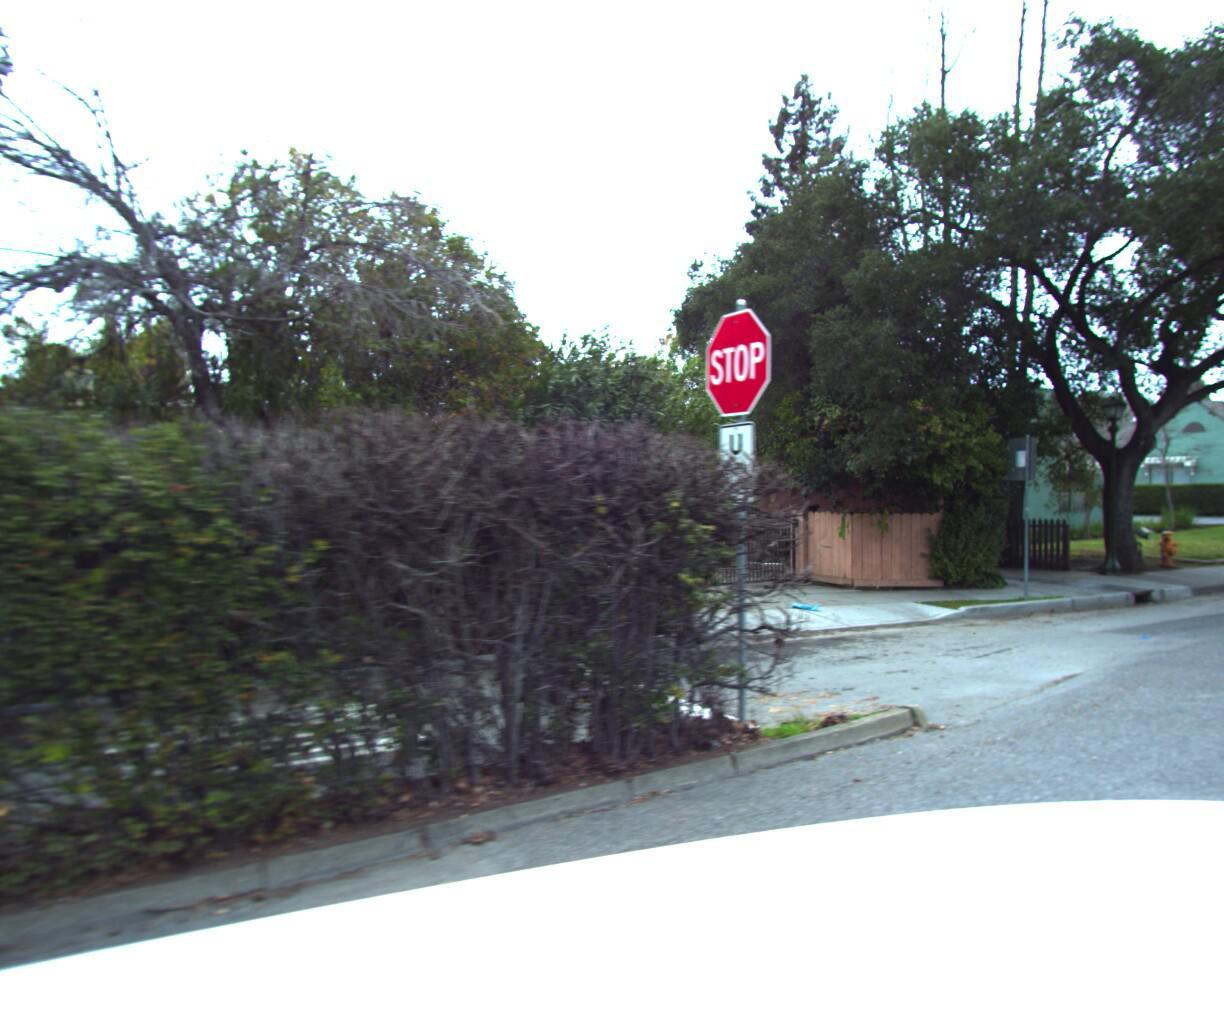car: (0, 537, 38, 898)
